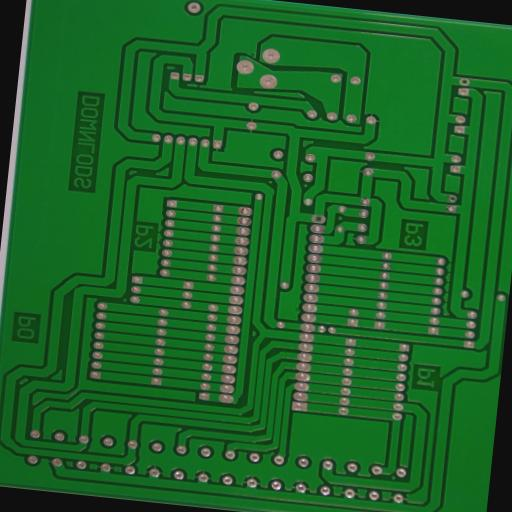missing_hole: (458, 77, 470, 86), (446, 194, 456, 203), (312, 214, 322, 223)
